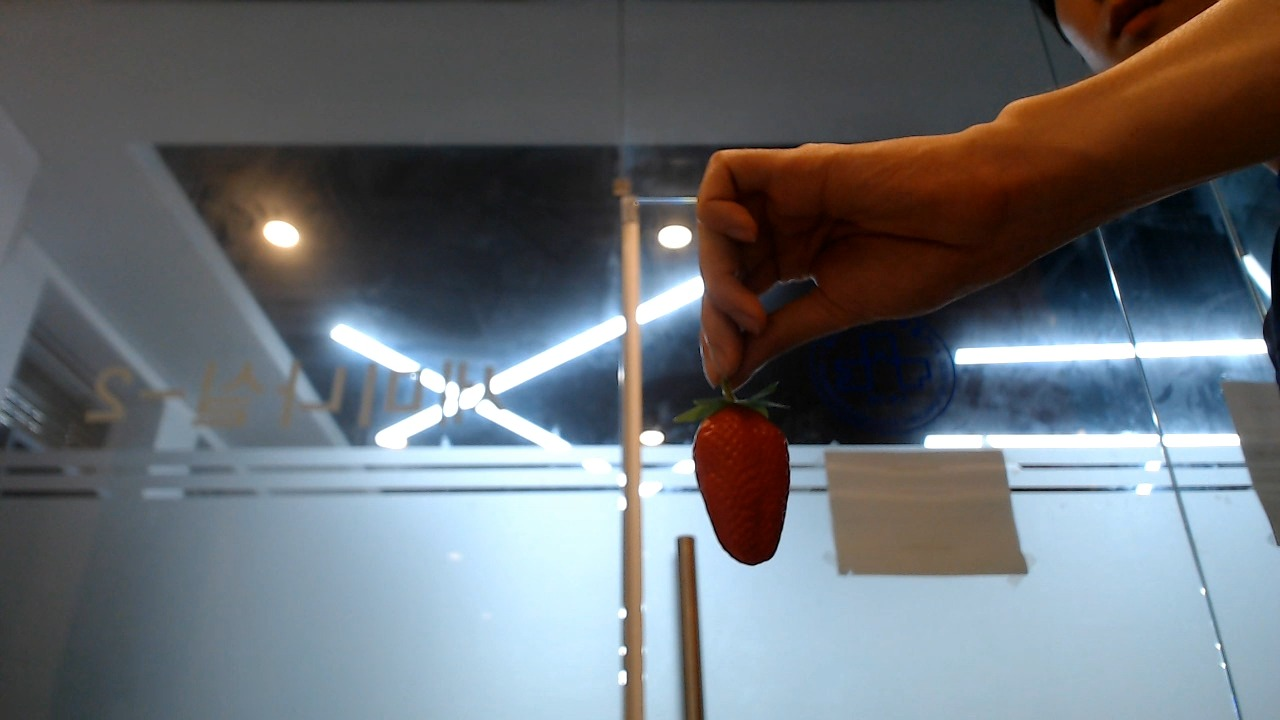strawberry: (680, 399, 806, 577)
